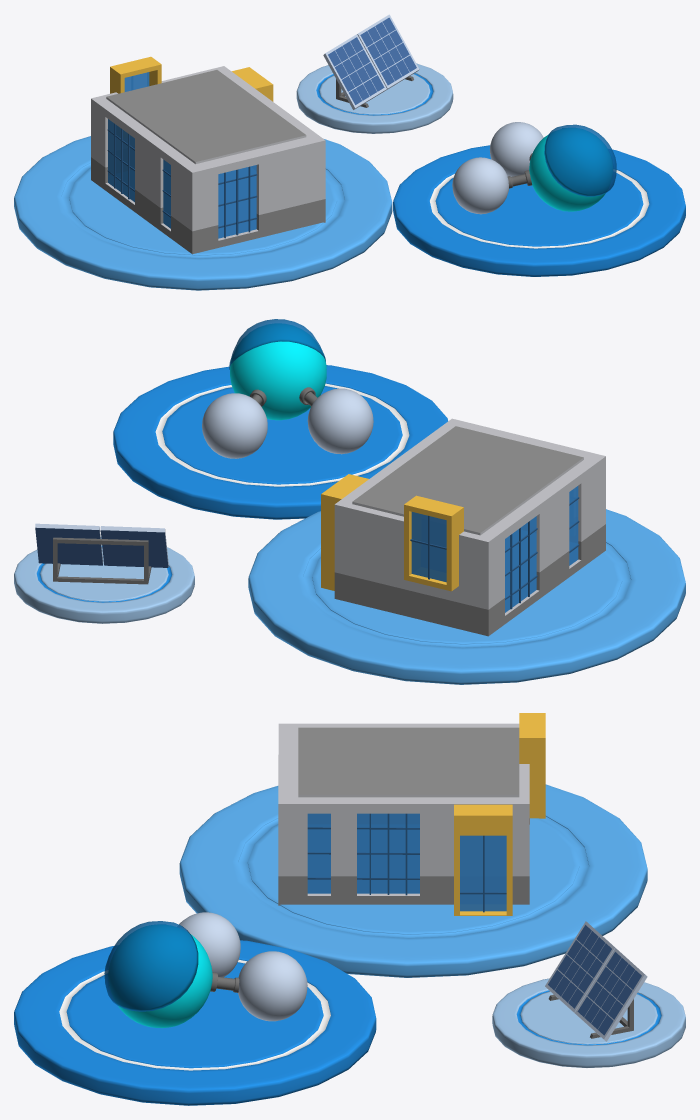
File: MiniWorld_waterPad.glb
3 views of the same model, one above another, from view 1: azimuth 30°, elevation 25°; view 2: azimuth 150°, elevation 25°; view 3: azimuth 270°, elevation 25° (orthographic). The views are drawn at different scales.
Visible parts, largest first — view 1: Building_main, LandingPad_house, LandingPad, LandingPad_solar, ship, solarPanel, ship_engines, ship_window, building_windowFrame01, building_windowFrame02, bar09; view 2: Building_main, LandingPad_house, LandingPad, LandingPad_solar, ship_engines, ship, solarPanel, building_windowFrame01, window01, building_windowFrame02, ship_window, solarPanel_holder; view 3: LandingPad_house, Building_main, LandingPad, LandingPad_solar, ship, ship_window, solarPanel, ship_engines, window02, building_windowFrame02, building_windowFrame01, bar04 (+1 smaller).
Part boxes in pixels (bbox=[...]): Building_main: bbox=[91, 66, 325, 254]; LandingPad_house: bbox=[14, 136, 392, 290]; LandingPad: bbox=[393, 145, 685, 276]; LandingPad_solar: bbox=[296, 63, 453, 133]; ship: bbox=[529, 128, 612, 211]; solarPanel: bbox=[323, 14, 419, 109]; ship_engines: bbox=[452, 122, 543, 214]; ship_window: bbox=[544, 124, 616, 196]; building_windowFrame01: bbox=[110, 56, 161, 93]; building_windowFrame02: bbox=[232, 67, 273, 101]; bar09: bbox=[224, 166, 250, 238]; Building_main: bbox=[334, 418, 605, 636]; LandingPad_house: bbox=[248, 509, 685, 684]; LandingPad: bbox=[113, 365, 447, 519]; LandingPad_solar: bbox=[14, 537, 194, 623]; ship_engines: bbox=[202, 388, 373, 458]; ship: bbox=[230, 324, 326, 420]; solarPanel: bbox=[35, 523, 168, 567]; building_windowFrame01: bbox=[404, 495, 463, 591]; window01: bbox=[411, 512, 446, 582]; building_windowFrame02: bbox=[321, 474, 368, 590]; ship_window: bbox=[229, 319, 325, 369]; solarPanel_holder: bbox=[53, 537, 151, 584]; LandingPad_house: bbox=[179, 784, 647, 977]; Building_main: bbox=[278, 723, 529, 905]; LandingPad: bbox=[14, 940, 376, 1105]; LandingPad_solar: bbox=[492, 978, 685, 1067]; ship: bbox=[109, 925, 212, 1028]; ship_window: bbox=[104, 921, 198, 1011]; solarPanel: bbox=[545, 921, 647, 1041]; ship_engines: bbox=[178, 912, 307, 1021]; window02: bbox=[460, 835, 506, 911]; building_windowFrame02: bbox=[454, 804, 512, 915]; building_windowFrame01: bbox=[519, 713, 545, 818]; bar04: bbox=[369, 813, 407, 895].
Size of the model in its own units: 19.17 by 3.98 by 16.74.
